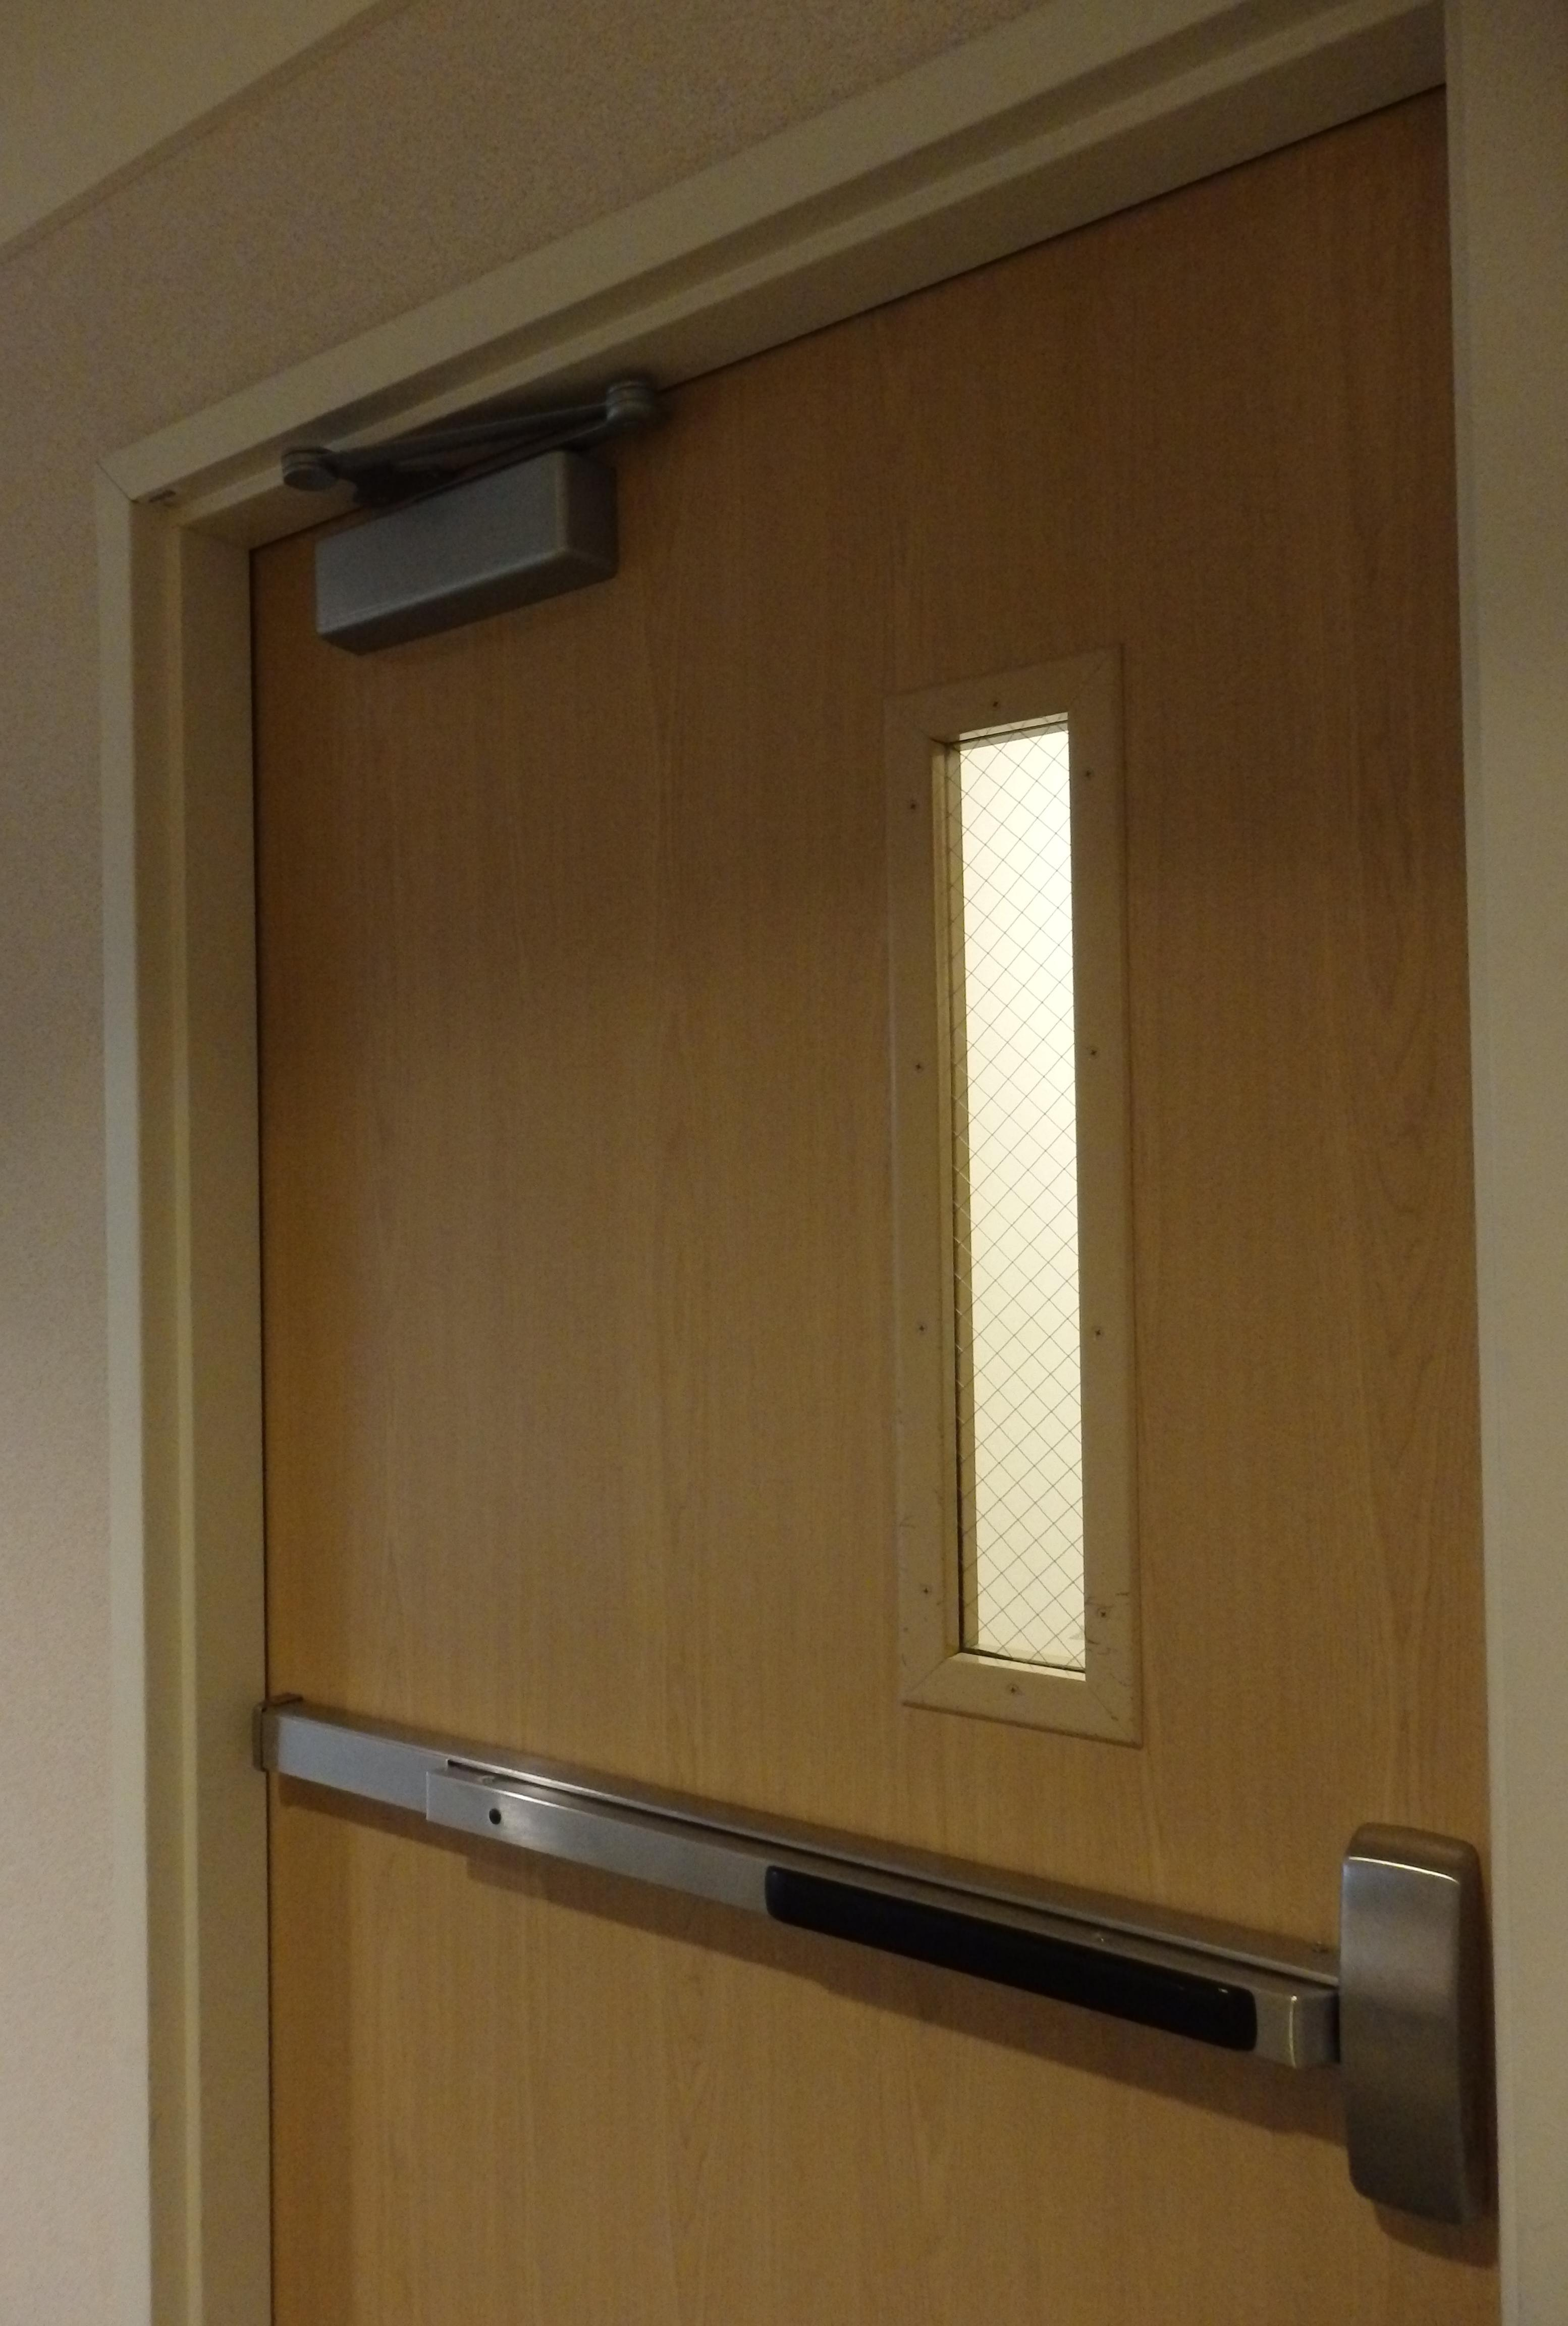door: (269, 53, 1447, 2326)
